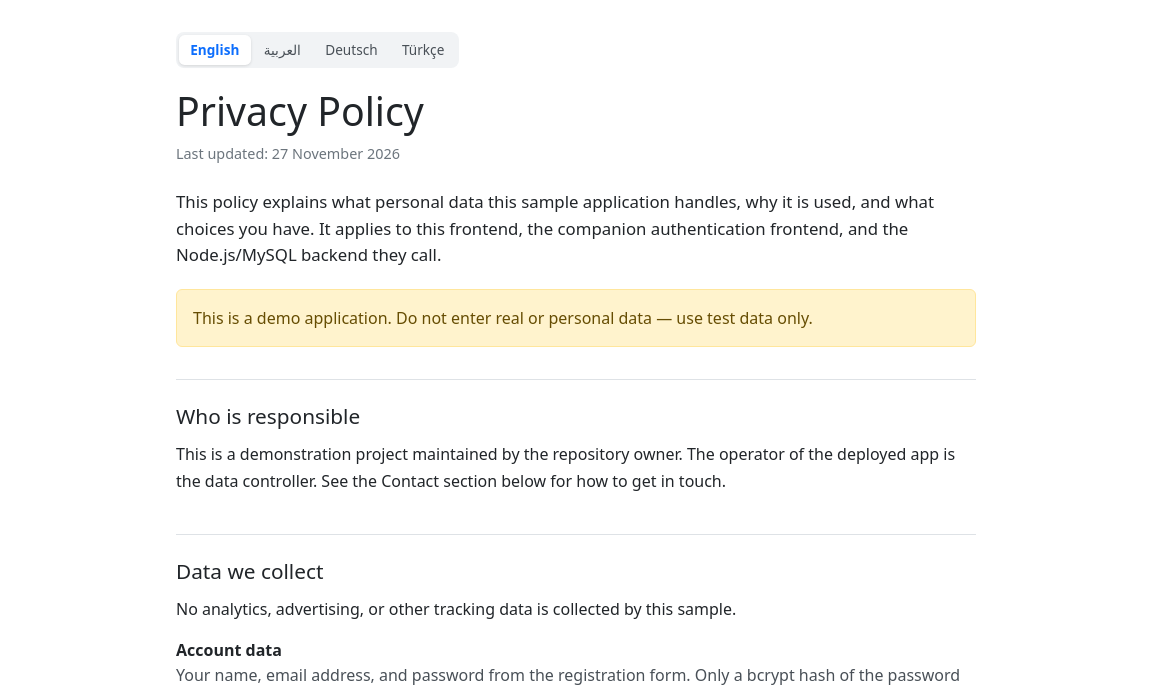
Test: switches language, switches to RTL for Arabic, and remembers it
Click the button "العربية" at (282,50), box [252,35,312,65]
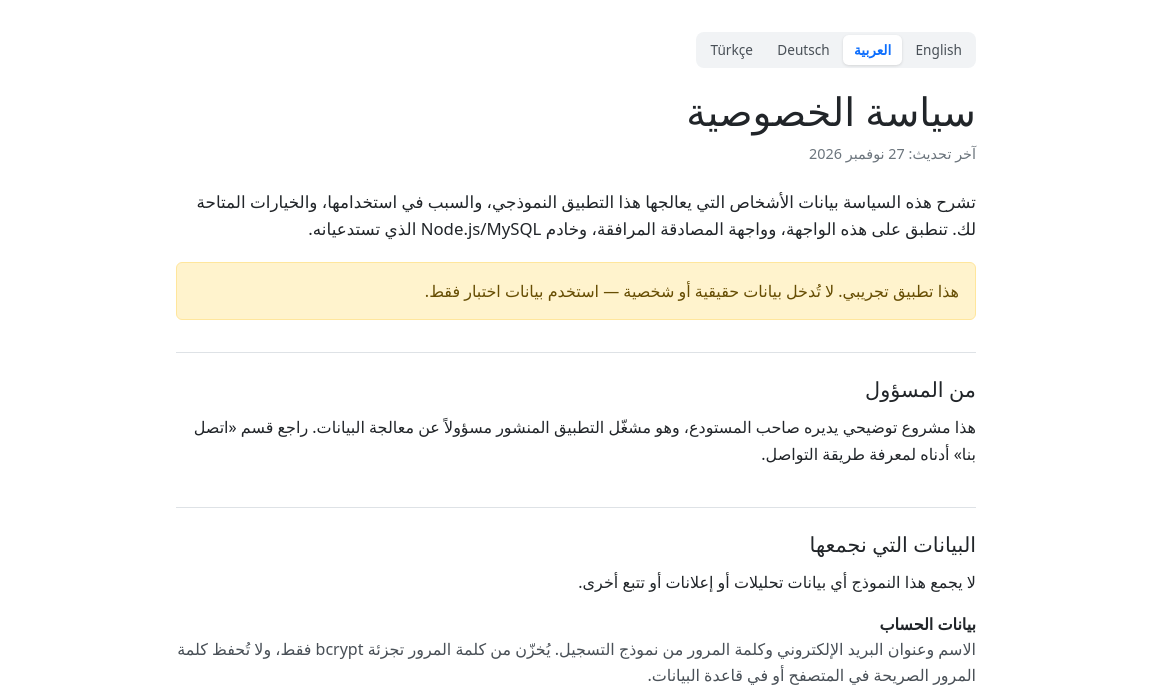
Now the heading "سياسة الخصوصية" is shown, box [686,84,976,138]
